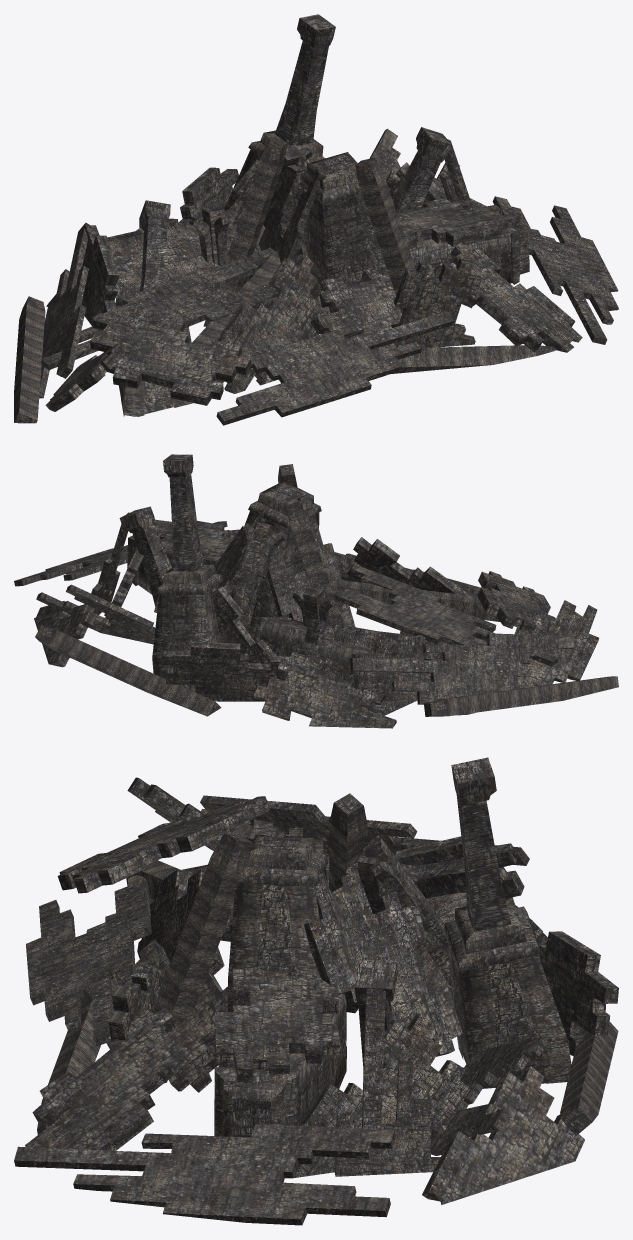
Rendered from eso_gu11_BurntDebris2-transformed.glb.
3 views of the same model, one above another, from view 1: azimuth 30°, elevation 25°; view 2: azimuth 150°, elevation 25°; view 3: azimuth 270°, elevation 25° (orthographic). The views are drawn at different scales.
Parts seen in each view (by area): view 1: default; view 2: default; view 3: default.
Boxes of the visible parts, left/top/right/bottom form: default: left=14, top=14, right=618, bottom=425; default: left=14, top=454, right=618, bottom=728; default: left=14, top=757, right=618, bottom=1225.
Size of the model in its own units: 24.69 by 9 by 15.28.
Materials: 1 (1 with a texture image).
